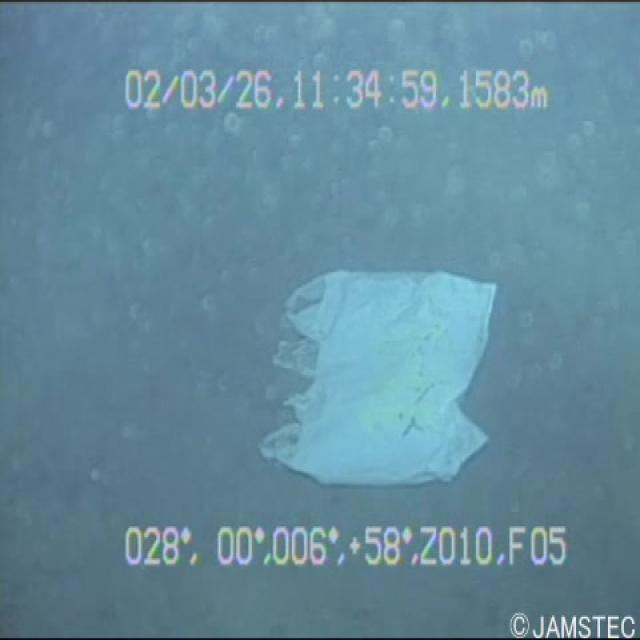plastic: (244, 219, 495, 505)
